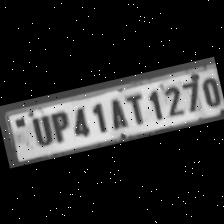0: (196, 71, 223, 108)
1: (85, 97, 110, 136), (141, 86, 166, 122)
2: (157, 80, 186, 119)
4: (65, 102, 93, 140)
7: (177, 75, 203, 113)
A: (102, 93, 130, 131)
P: (45, 106, 72, 144)
T: (122, 90, 149, 128)
U: (25, 112, 55, 148)
